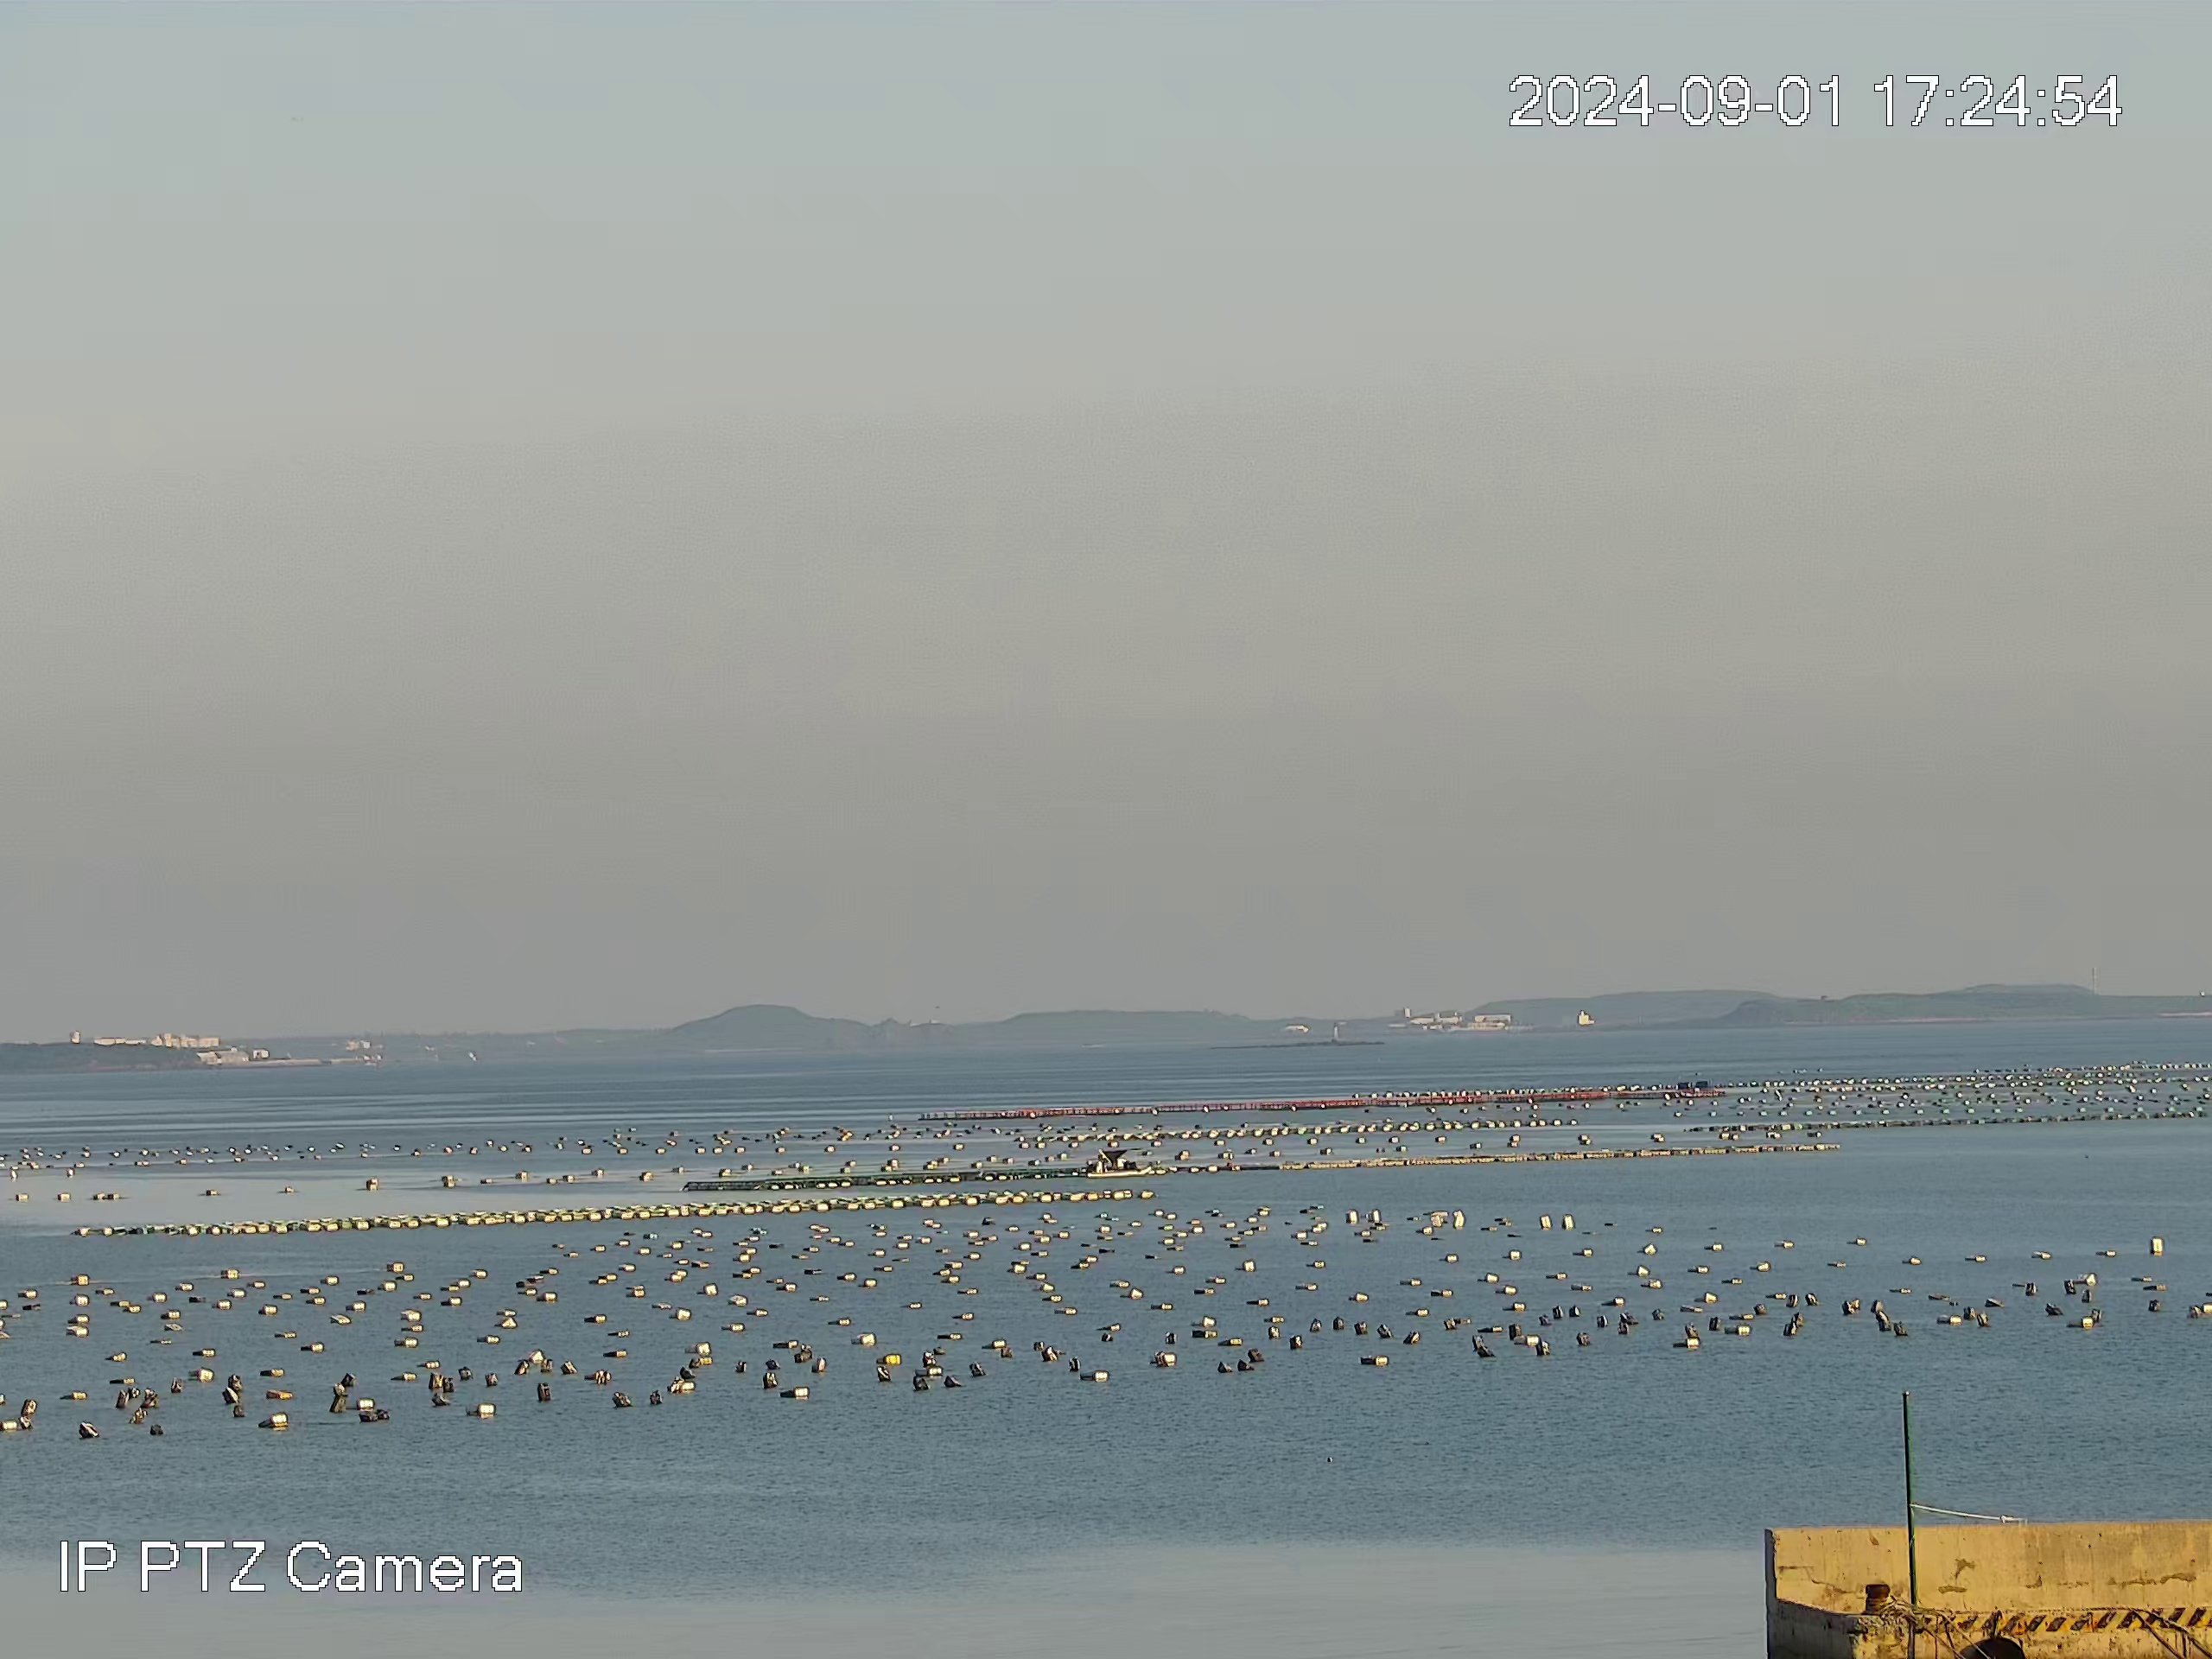boat: (1085, 1147, 1155, 1178)
